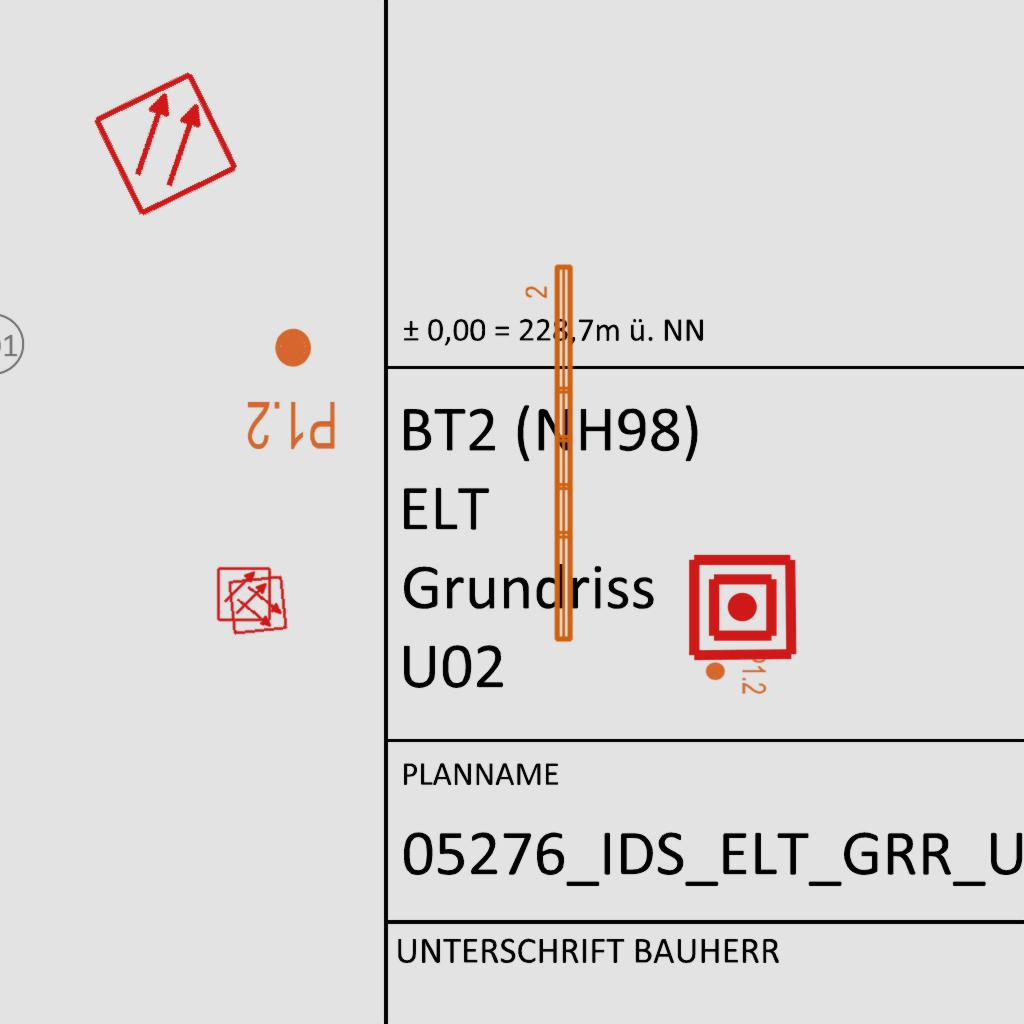Ambulanz_Pendelleuchte_LED: (523, 260, 579, 647)
Downlight_LED_Einbauleuchten_Flur: (245, 325, 338, 453), (704, 649, 768, 695)
NAM-Nichtautomatischer_Melder: (686, 551, 799, 664)
RMO_Rauchmelder_optischer: (89, 67, 242, 220), (227, 574, 289, 636), (216, 566, 272, 622)
